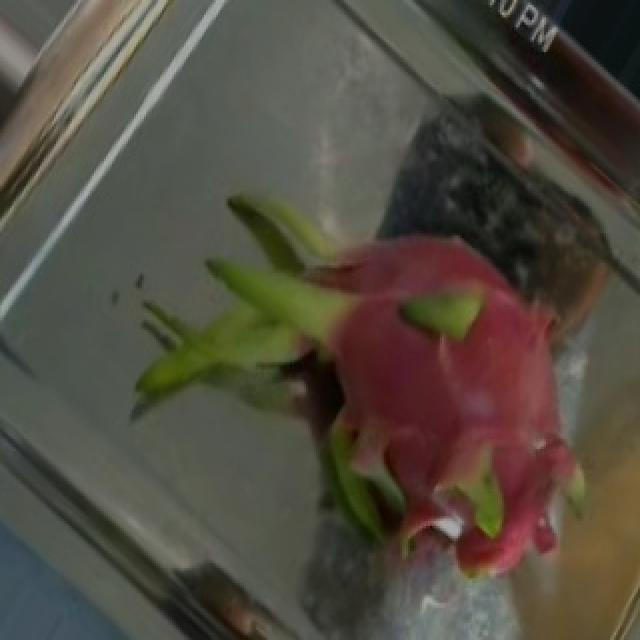fruit: (204, 171, 636, 638)
